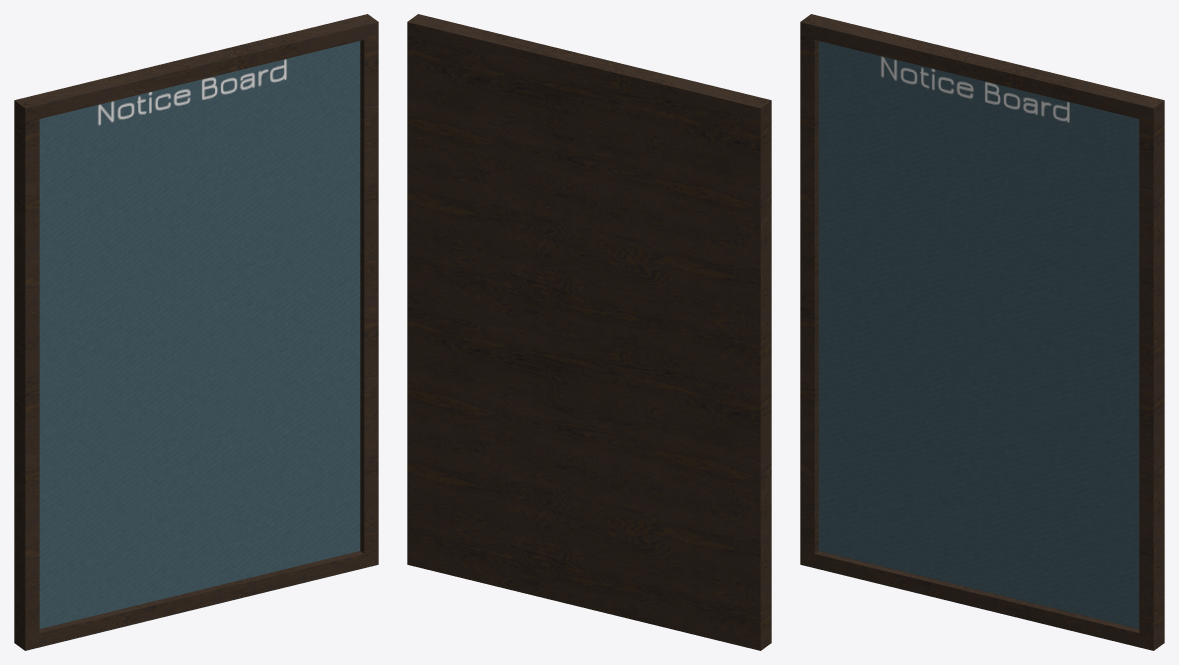
Rendered from NoticeBoard.fbx.
3 views of the same model, side by side, from view 1: azimuth 30°, elevation 25°; view 2: azimuth 150°, elevation 25°; view 3: azimuth 330°, elevation 25° (orthographic).
Visible parts, largest first — view 1: Noticeboard, NoticeboardFrame; view 2: NoticeboardFrame; view 3: Noticeboard, NoticeboardFrame.
Boxes of the visible parts, x1,y1,x2,y2 form: Noticeboard: (39, 41, 360, 628); NoticeboardFrame: (14, 14, 378, 650); NoticeboardFrame: (407, 14, 771, 650); Noticeboard: (818, 41, 1139, 628); NoticeboardFrame: (800, 14, 1164, 650).
Bounding box in the file's own units: 86.76 × 127 × 4.67.
Materials: 1 (1 with a texture image).
